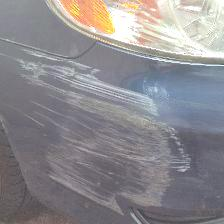bumper_scratch: (23, 42, 192, 219)
